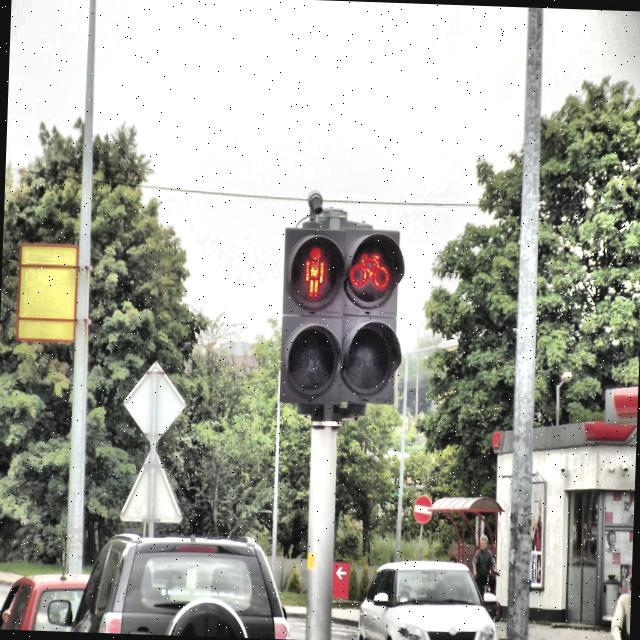red_light: (302, 245, 325, 301)
